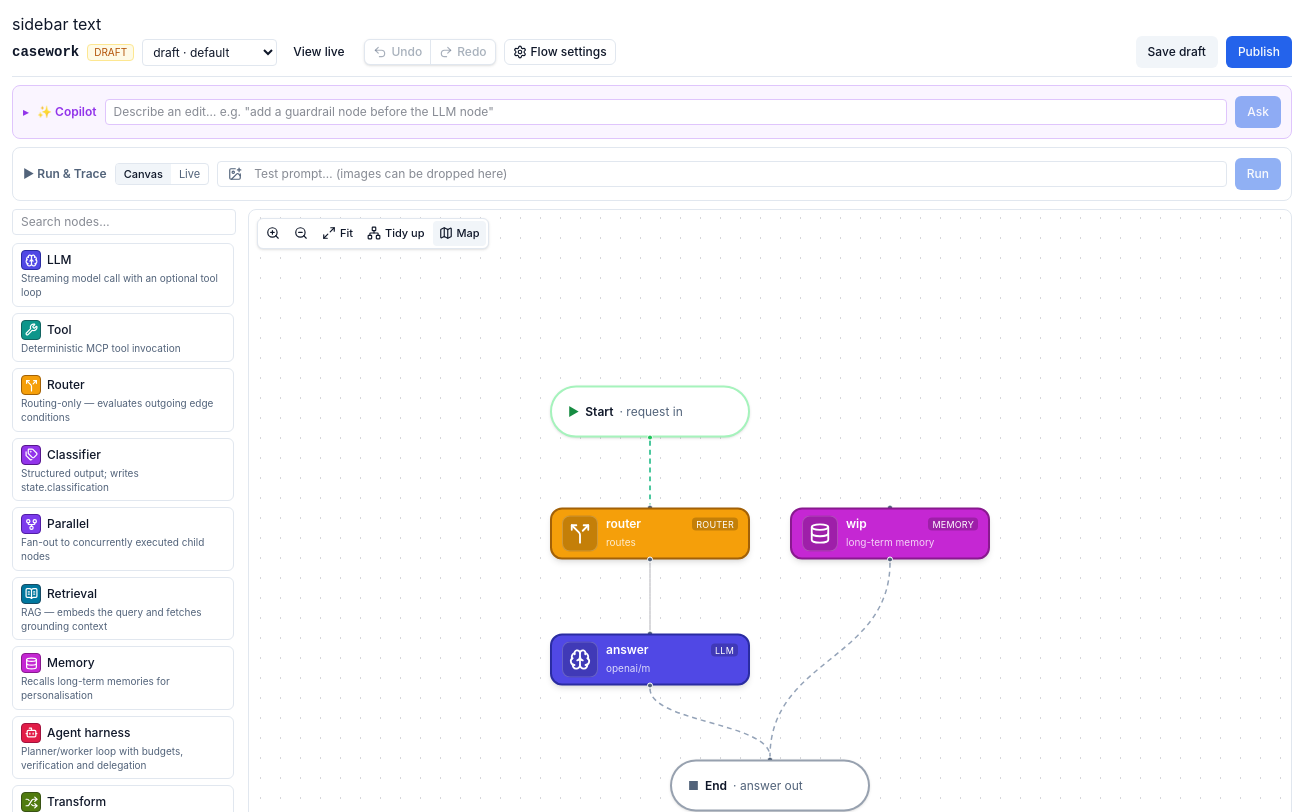
it: StudioBuilder › loads the draft and offers a Draft↔Live switch for online flows
The width and height of the screenshot is (1304, 812).
Expected: the text "wip" is shown, x1=846 y1=516 x2=867 y2=532
Expected: the text "draft" is shown, x1=87 y1=44 x2=134 y2=60
Click the button "View live".
click(319, 52)  # box x1=281 y1=36 x2=356 y2=68
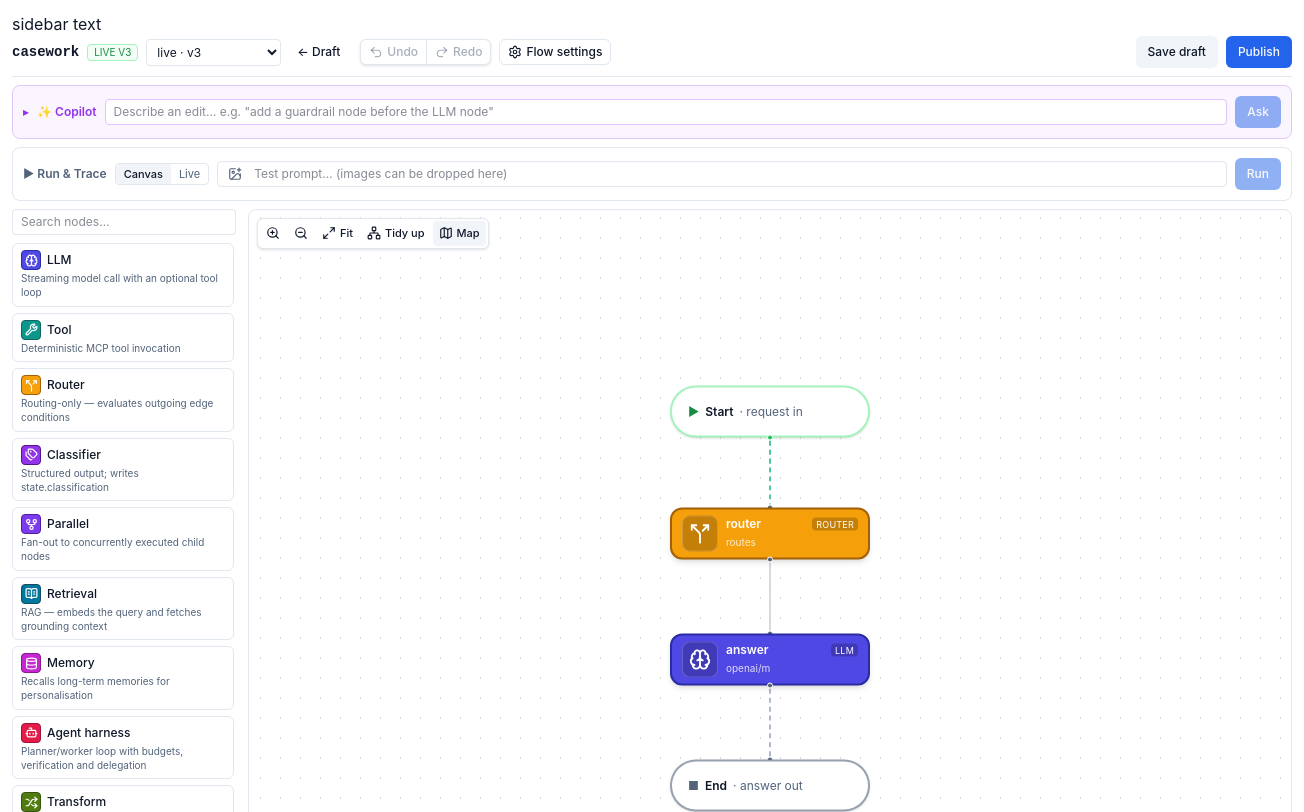
Expected: the button "wip" is gone
Expected: the text "live v3" is shown, x1=87 y1=44 x2=138 y2=60
Click the button "← Draft".
click(319, 52)  # box x1=285 y1=36 x2=352 y2=68
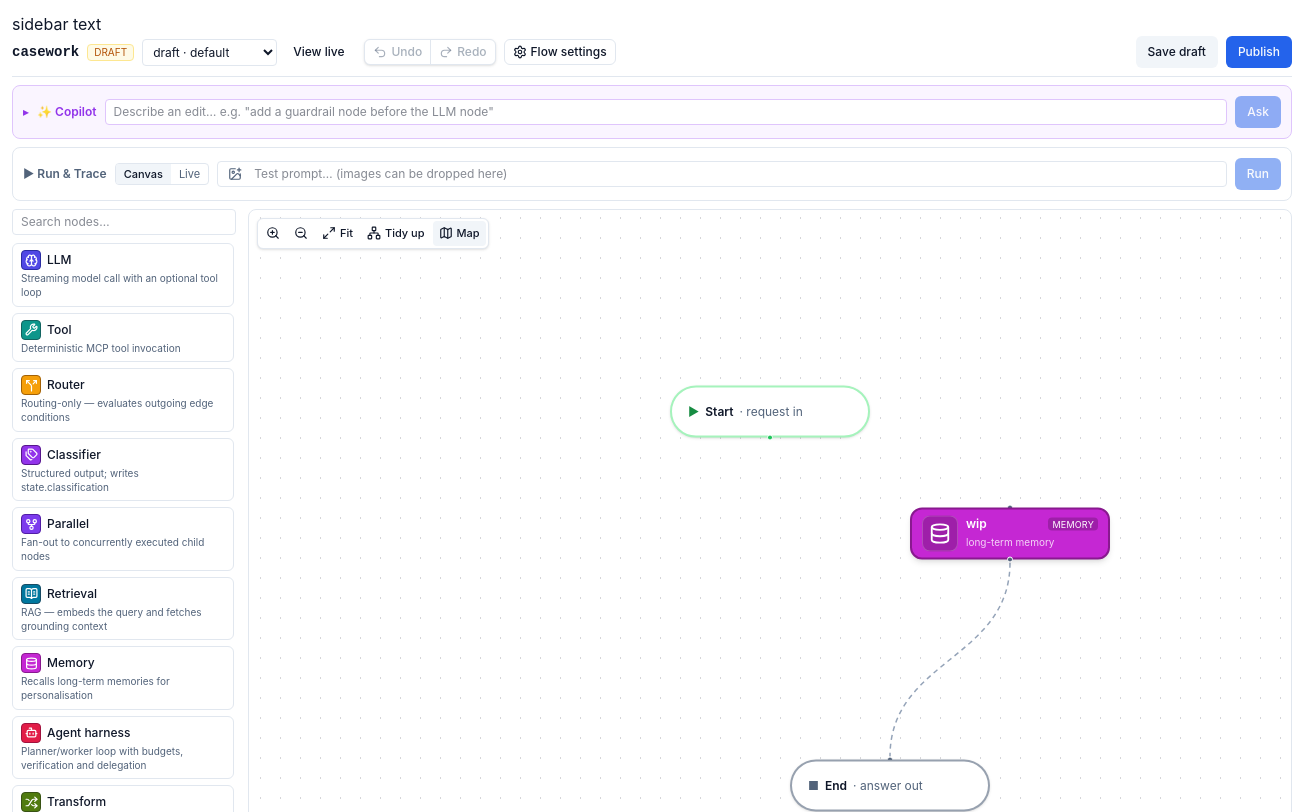
Expected: the text "draft" is shown, x1=87 y1=44 x2=134 y2=60
Expected: the text "wip" is shown, x1=966 y1=516 x2=987 y2=532
